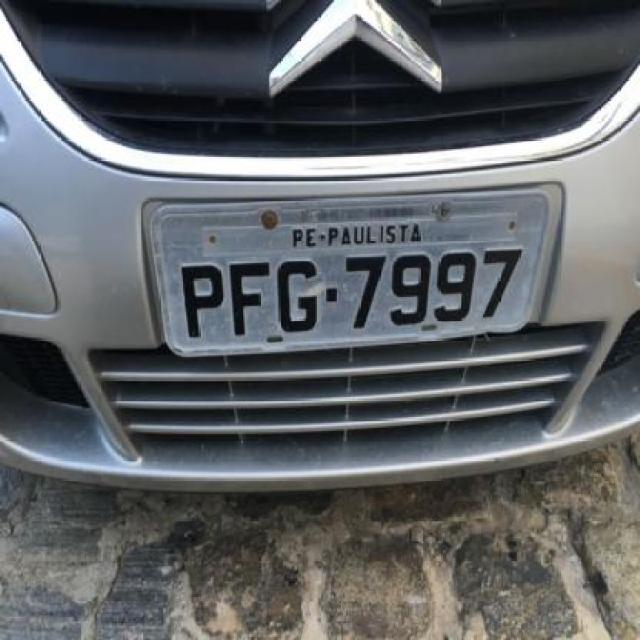old_plate: (141, 186, 556, 366)
